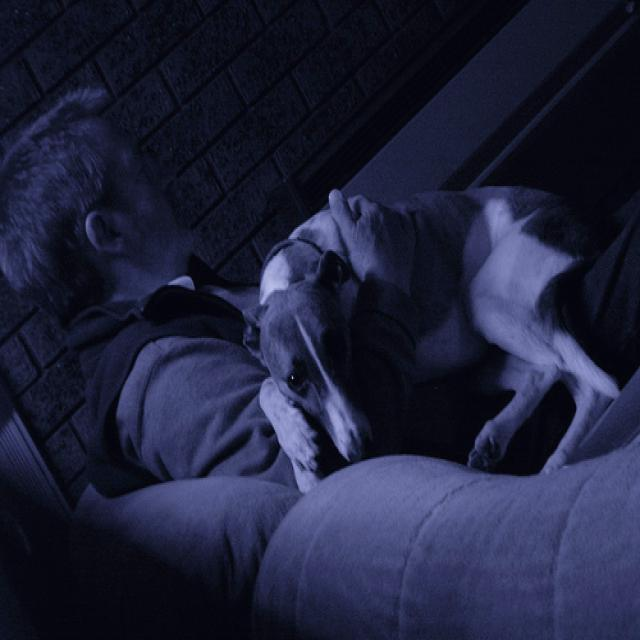Dog: (180, 162, 616, 524)
